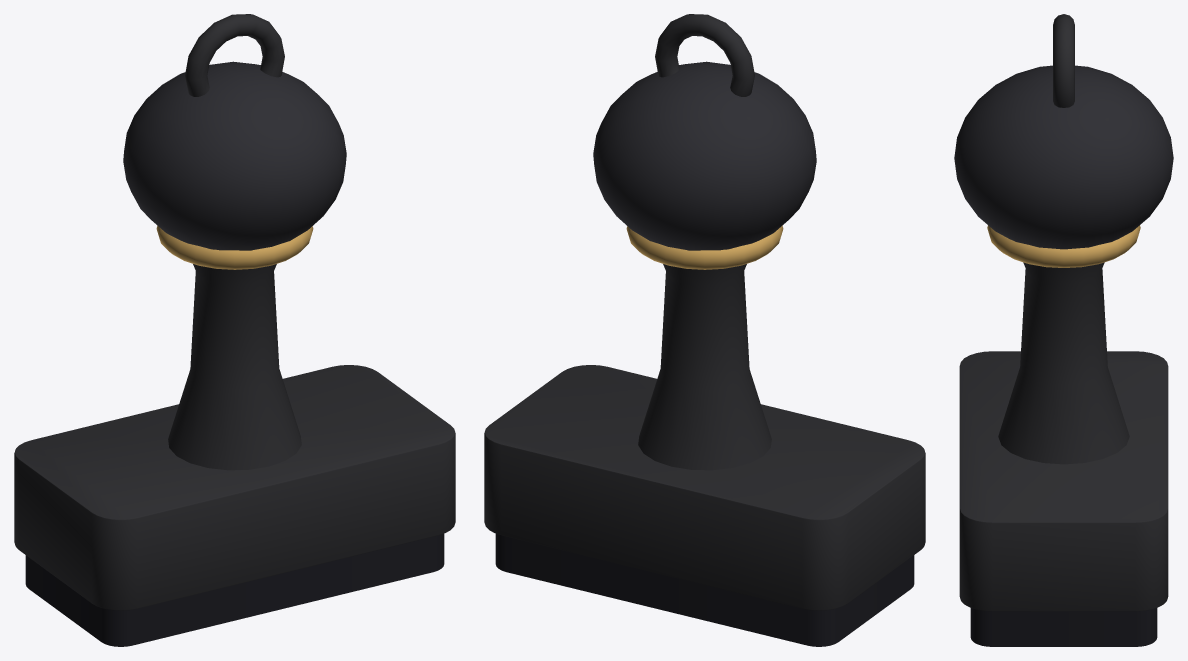
The model's file is Stamp_Seal.fbx.
The picture shows the model from 3 angles, left to right: view 1: azimuth 30°, elevation 25°; view 2: azimuth 150°, elevation 25°; view 3: azimuth 270°, elevation 25°; orthographic projection. The views are drawn at different scales.
Parts seen in each view (by area): view 1: Stamp_Seal; view 2: Stamp_Seal; view 3: Stamp_Seal.
Boxes of the visible parts, x1=… form: Stamp_Seal: x1=14, y1=14, x2=455, y2=646; Stamp_Seal: x1=484, y1=14, x2=925, y2=646; Stamp_Seal: x1=954, y1=14, x2=1173, y2=646.
Size of the model in its own units: 0.074 by 0.11 by 0.04.
